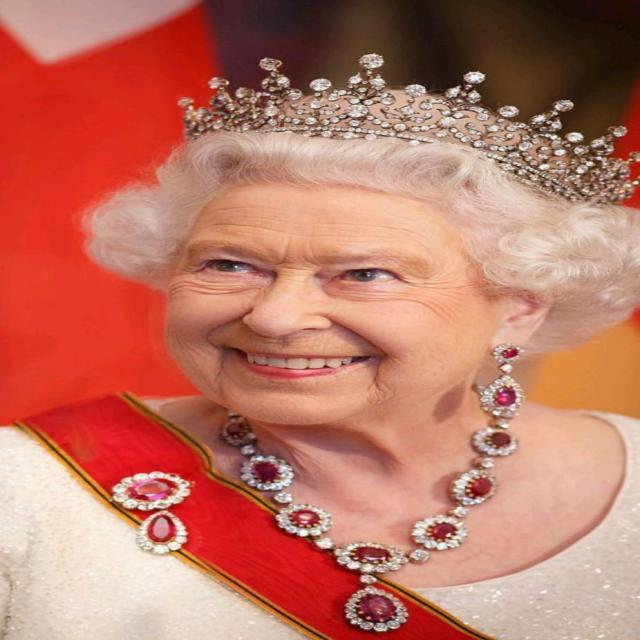Earring: (475, 332, 536, 428)
